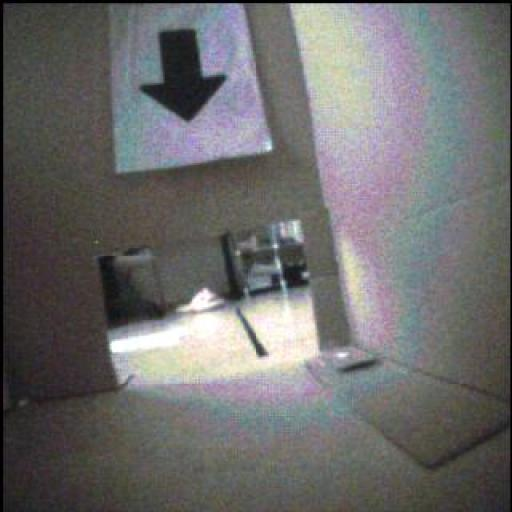arrow: (142, 30, 227, 123)
